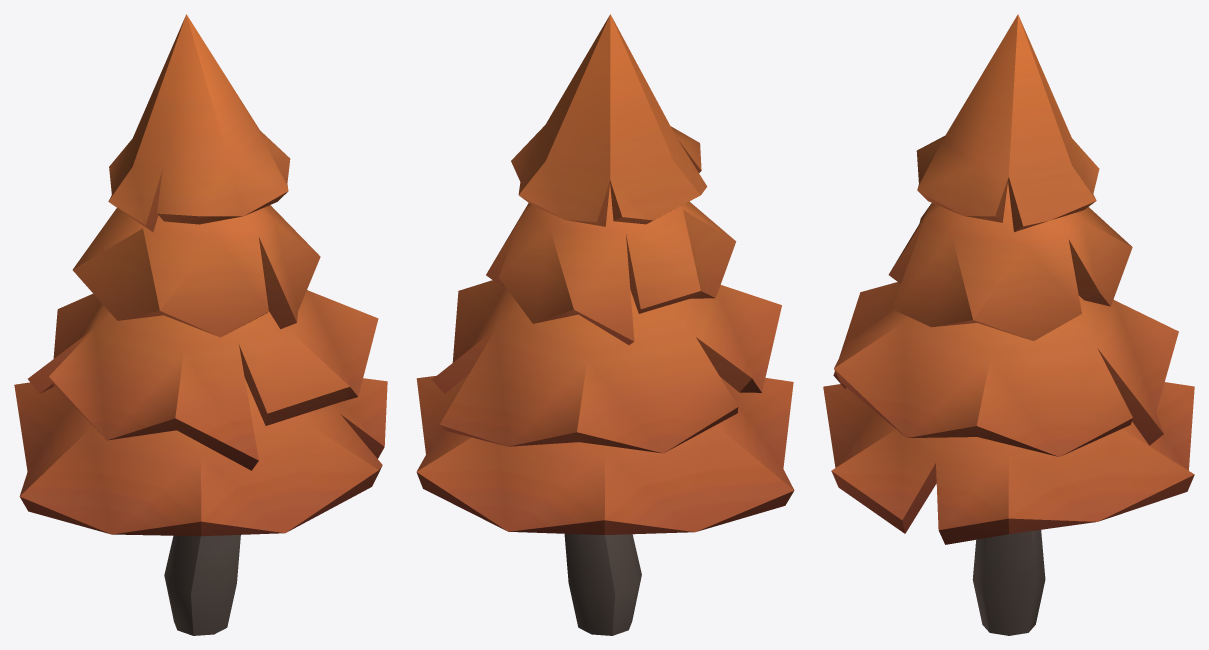
File: tree_pine_orange_large.glb
The picture shows the model from 3 angles, left to right: view 1: azimuth 30°, elevation 25°; view 2: azimuth 150°, elevation 25°; view 3: azimuth 270°, elevation 25°; orthographic projection.
Parts seen in each view (by area): view 1: tree_pine_orange_large; view 2: tree_pine_orange_large; view 3: tree_pine_orange_large.
Boxes of the visible parts, left/top/right/bottom form: tree_pine_orange_large: left=14, top=14, right=387, bottom=635; tree_pine_orange_large: left=416, top=14, right=794, bottom=635; tree_pine_orange_large: left=823, top=14, right=1194, bottom=635.
Bounding box in the file's own units: 4.76 × 7.48 × 4.16.
1 material, 1 textured.
